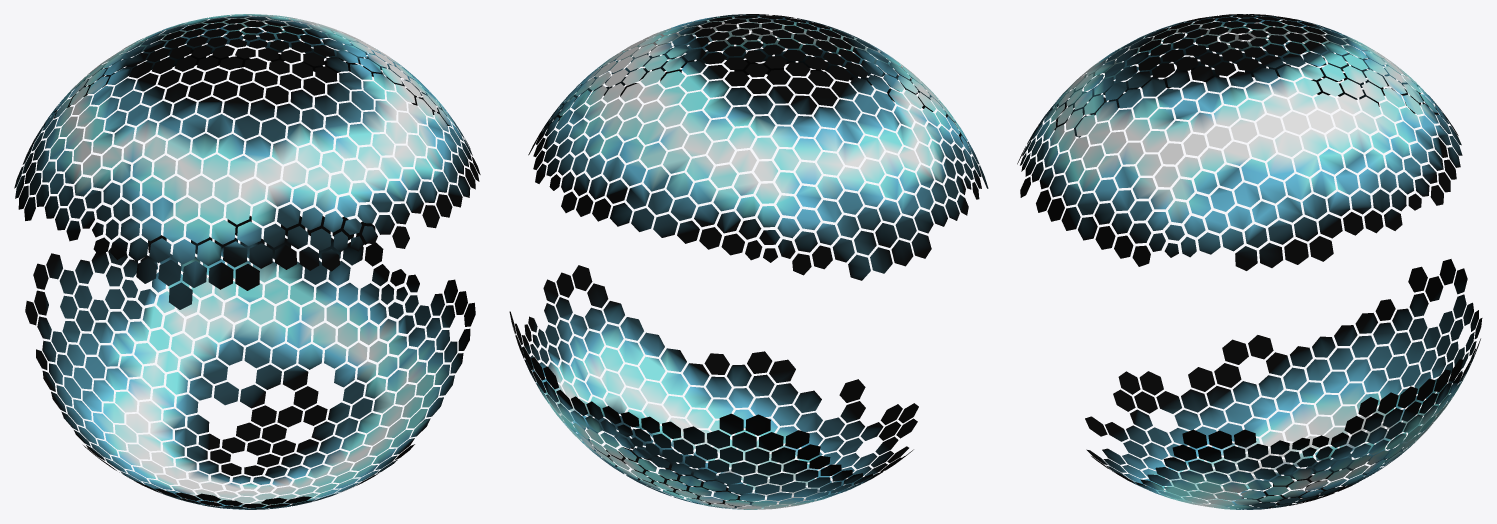
The model's file is uv_gas.fbx.
3 views of the same model, side by side, from view 1: azimuth 30°, elevation 25°; view 2: azimuth 150°, elevation 25°; view 3: azimuth 270°, elevation 25° (orthographic).
Parts seen in each view (by area): view 1: uv_gas; view 2: uv_gas; view 3: uv_gas.
Boxes of the visible parts, x1=… form: uv_gas: x1=14, y1=14, x2=480, y2=509; uv_gas: x1=509, y1=14, x2=988, y2=509; uv_gas: x1=1017, y1=14, x2=1482, y2=509.
Size of the model in its own units: 188 by 199 by 187.
